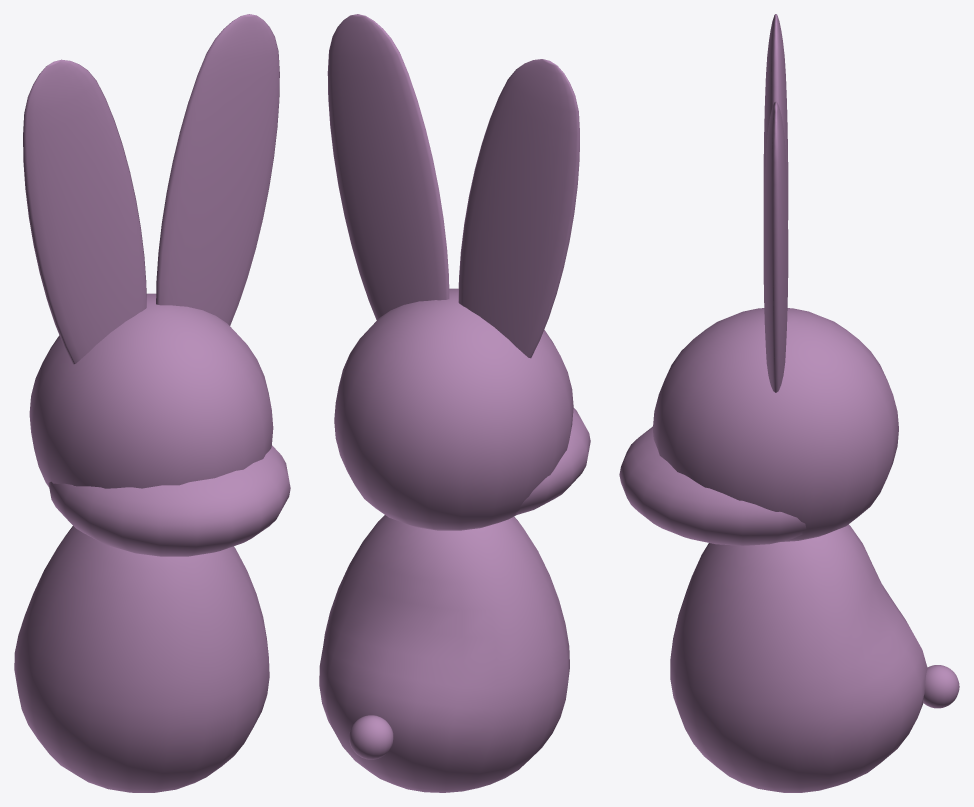
File: Enemy.fbx
3 renders of one model, left to right at view 1: azimuth 30°, elevation 25°; view 2: azimuth 150°, elevation 25°; view 3: azimuth 270°, elevation 25°, orthographic. The views are drawn at different scales.
Parts seen in each view (by area): view 1: pSphere5, pSphere1, pSphere3, pSphere4, pSphere2; view 2: pSphere5, pSphere1, pSphere3, pSphere4, pSphere2, pSphere6; view 3: pSphere5, pSphere1, pSphere2, pSphere4, pSphere3, pSphere6.
Boxes of the visible parts, x1,y1,x2,y2 form: pSphere5: [14, 526, 269, 792]; pSphere1: [29, 293, 273, 488]; pSphere3: [23, 59, 146, 364]; pSphere4: [156, 14, 279, 325]; pSphere2: [48, 445, 290, 556]; pSphere5: [319, 515, 569, 792]; pSphere1: [334, 288, 573, 530]; pSphere3: [458, 59, 579, 358]; pSphere4: [327, 14, 449, 320]; pSphere2: [516, 408, 590, 514]; pSphere6: [349, 715, 393, 759]; pSphere5: [670, 524, 927, 792]; pSphere1: [653, 308, 898, 541]; pSphere2: [619, 426, 806, 545]; pSphere4: [763, 101, 788, 392]; pSphere3: [763, 14, 788, 222]; pSphere6: [923, 665, 959, 708].
Size of the model in its own units: 2.32 by 6.44 by 2.76.
